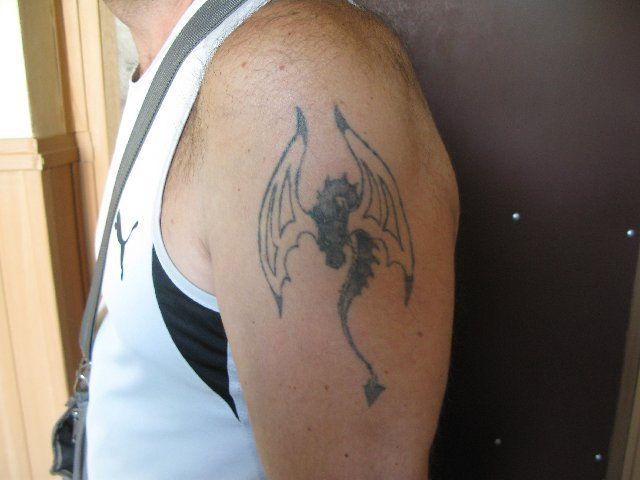tatu6_drakon: (243, 87, 462, 411)
